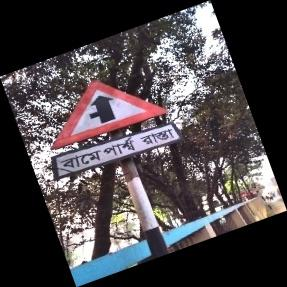Side-road-left: (51, 80, 181, 180)
